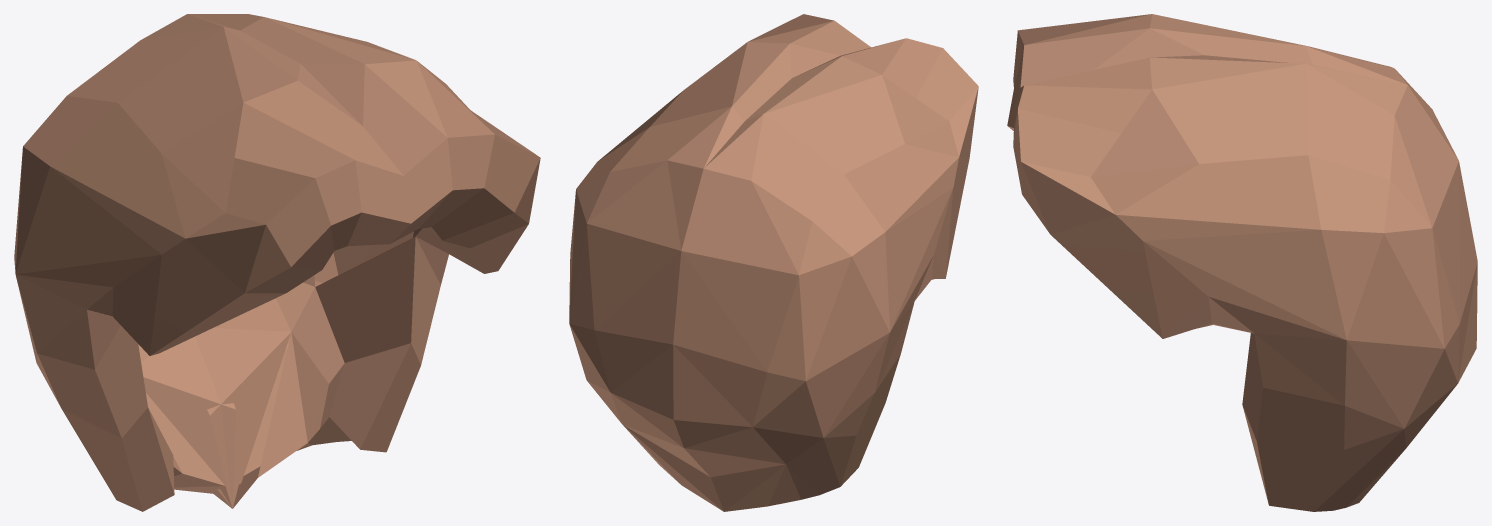
File: Pedestrian_M_Hair_B.fbx
3 views of the same model, side by side, from view 1: azimuth 30°, elevation 25°; view 2: azimuth 150°, elevation 25°; view 3: azimuth 270°, elevation 25° (orthographic). The views are drawn at different scales.
Parts seen in each view (by area): view 1: Pedestrian_M_Hair_B; view 2: Pedestrian_M_Hair_B; view 3: Pedestrian_M_Hair_B.
Boxes of the visible parts, left/top/right/bottom form: Pedestrian_M_Hair_B: left=14, top=14, right=540, bottom=511; Pedestrian_M_Hair_B: left=569, top=14, right=978, bottom=511; Pedestrian_M_Hair_B: left=1007, top=14, right=1477, bottom=511.
Bounding box in the file's own units: 21.1 × 24.96 × 23.41.
